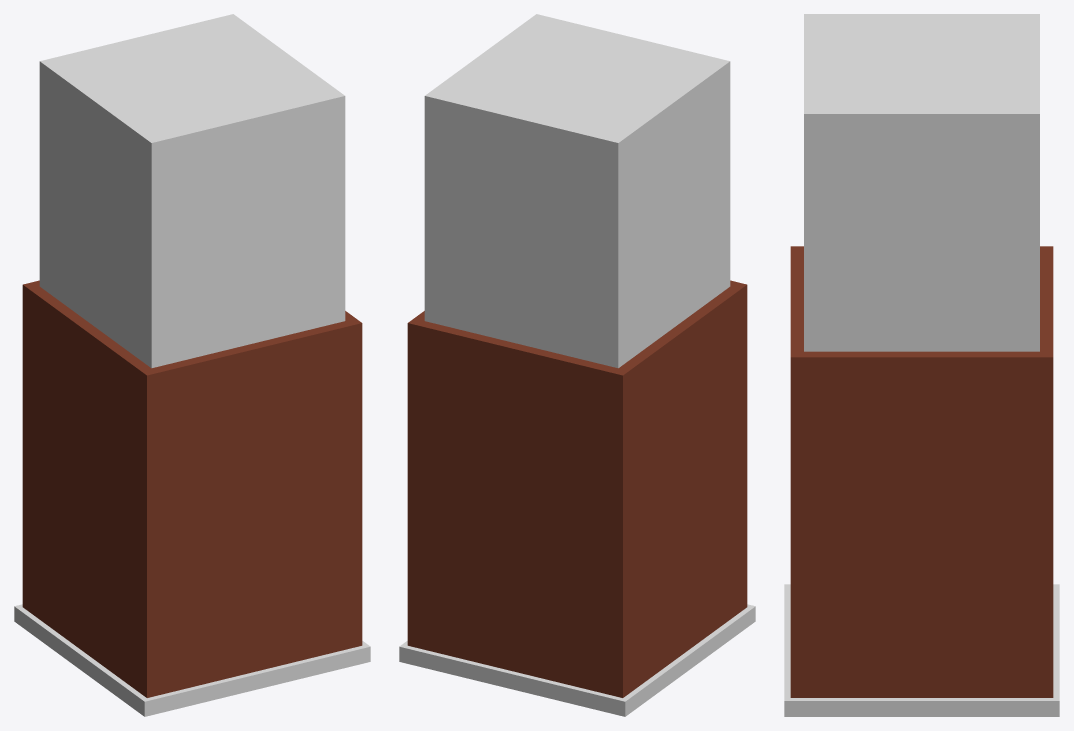
File: Column.fbx
The picture shows the model from 3 angles, left to right: view 1: azimuth 30°, elevation 25°; view 2: azimuth 150°, elevation 25°; view 3: azimuth 270°, elevation 25°; orthographic projection. The views are drawn at different scales.
Visible parts, largest first — view 1: Column; view 2: Column; view 3: Column.
Part boxes in pixels (bbox=[...]): Column: bbox=[14, 14, 370, 716]; Column: bbox=[399, 14, 755, 716]; Column: bbox=[784, 14, 1059, 716].
Bounding box in the file's own units: 105 × 105 × 250.
